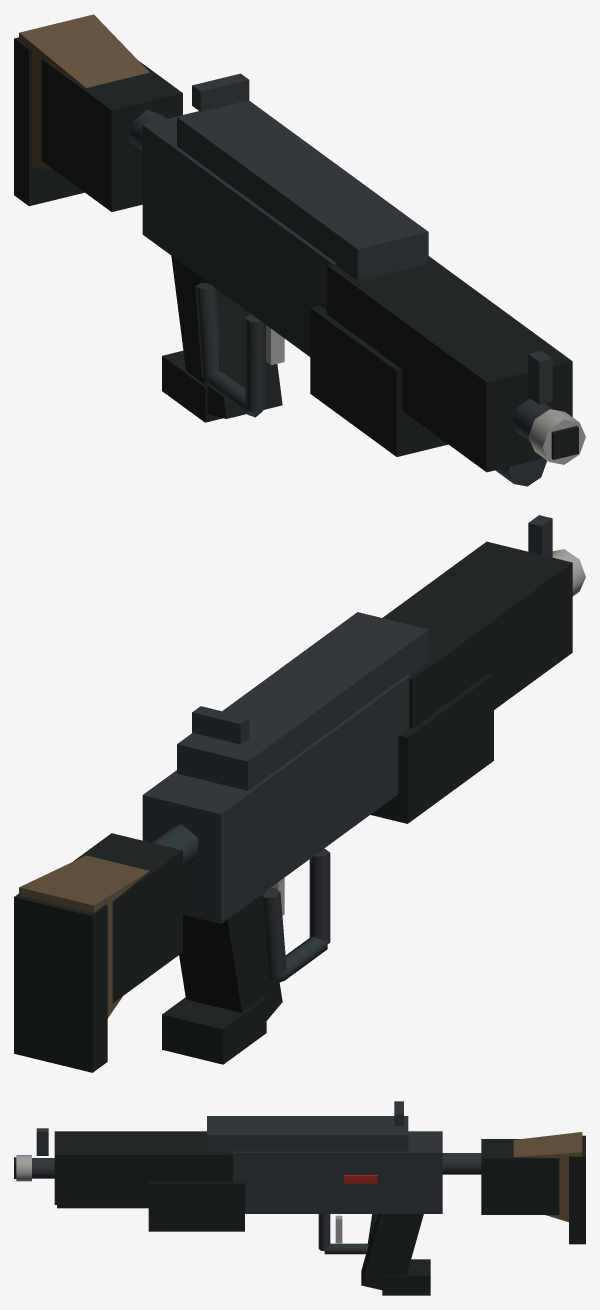
3 renders of one model, top to bottom at view 1: azimuth 30°, elevation 25°; view 2: azimuth 150°, elevation 25°; view 3: azimuth 270°, elevation 25°, orthographic. The views are drawn at different scales.
Parts seen in each view (by area): view 1: weapon-shotgun-0-painted, weapon-pump-painted; view 2: weapon-shotgun-0-painted, weapon-pump-painted; view 3: weapon-shotgun-0-painted, weapon-pump-painted.
Boxes of the visible parts, left/top/right/bottom form: weapon-shotgun-0-painted: left=14, top=14, right=585, bottom=486; weapon-pump-painted: left=310, top=305, right=448, bottom=456; weapon-shotgun-0-painted: left=14, top=515, right=585, bottom=1072; weapon-pump-painted: left=370, top=673, right=493, bottom=823; weapon-shotgun-0-painted: left=14, top=1101, right=585, bottom=1295; weapon-pump-painted: left=148, top=1181, right=244, bottom=1231.
Size of the model in its own units: 0.611 by 1.93 by 5.58.
